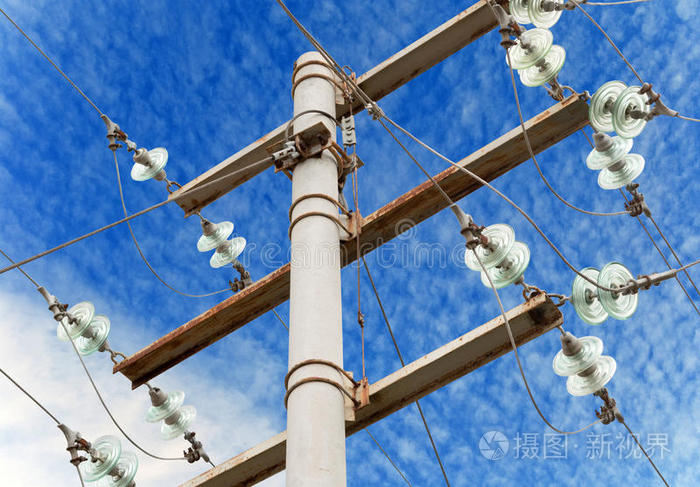insulator: (463, 222, 531, 288), (572, 260, 639, 324), (506, 28, 569, 84), (556, 335, 614, 393), (77, 432, 137, 487), (588, 80, 648, 135), (586, 136, 647, 189), (53, 302, 111, 357), (142, 390, 195, 439), (197, 219, 249, 268), (128, 147, 175, 184), (505, 1, 568, 27)
